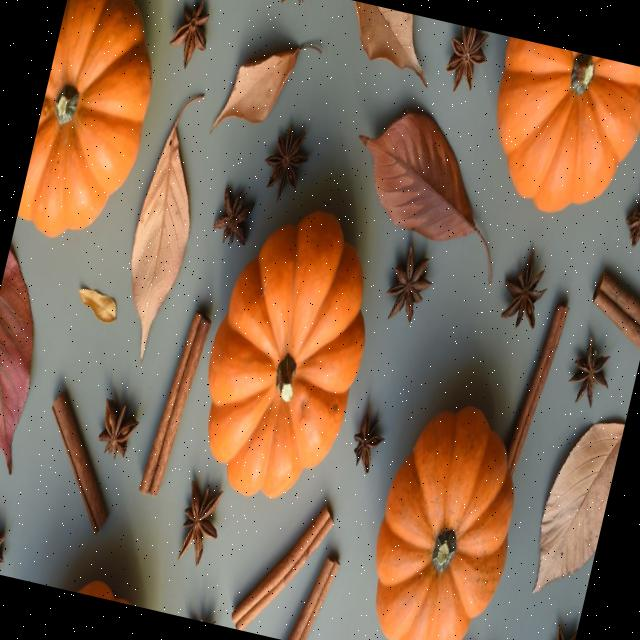pumpkin: (207, 211, 363, 497), (375, 405, 513, 640), (17, 0, 151, 236), (496, 36, 640, 211)
